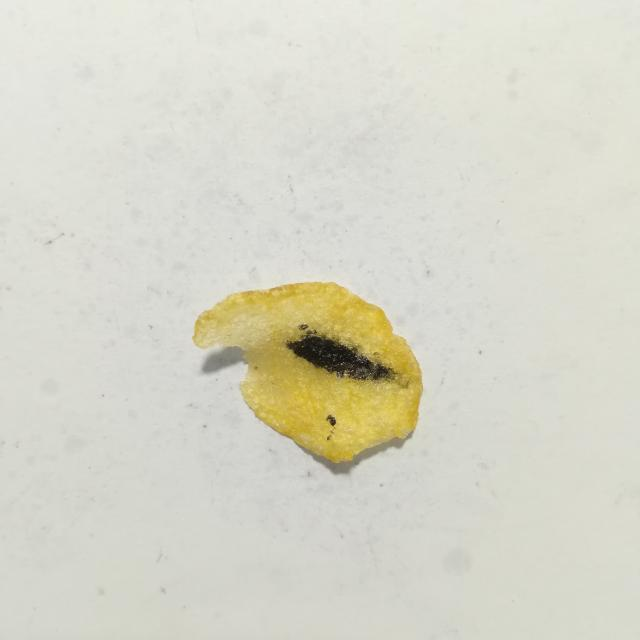chip: (193, 282, 423, 462)
damaged: (286, 330, 394, 380), (326, 415, 336, 426), (298, 323, 308, 330)
semi-damaged: (299, 328, 402, 385), (327, 435, 332, 440)
